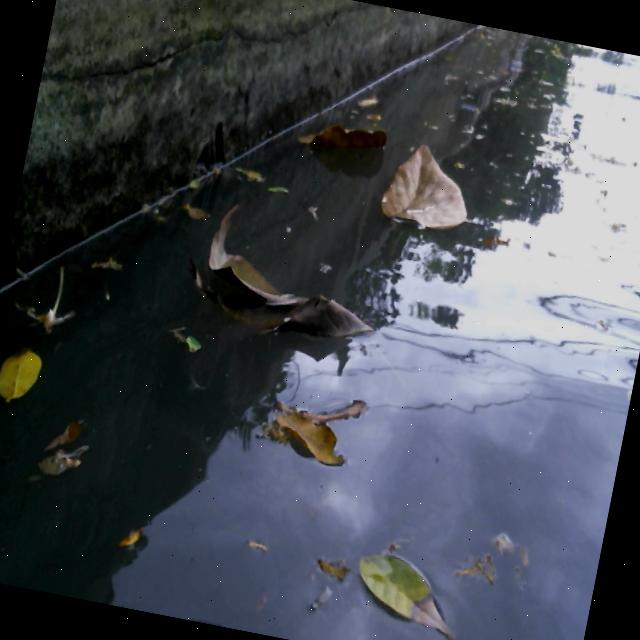Big-leaf: (188, 193, 408, 349), (243, 370, 374, 479), (375, 138, 481, 249), (298, 106, 400, 168)
Small-leaf: (336, 541, 461, 640), (3, 407, 89, 502), (0, 345, 49, 446), (156, 322, 217, 366), (102, 521, 142, 560), (304, 559, 353, 590), (90, 252, 128, 286), (174, 202, 216, 232), (353, 79, 384, 117), (262, 183, 298, 214)
